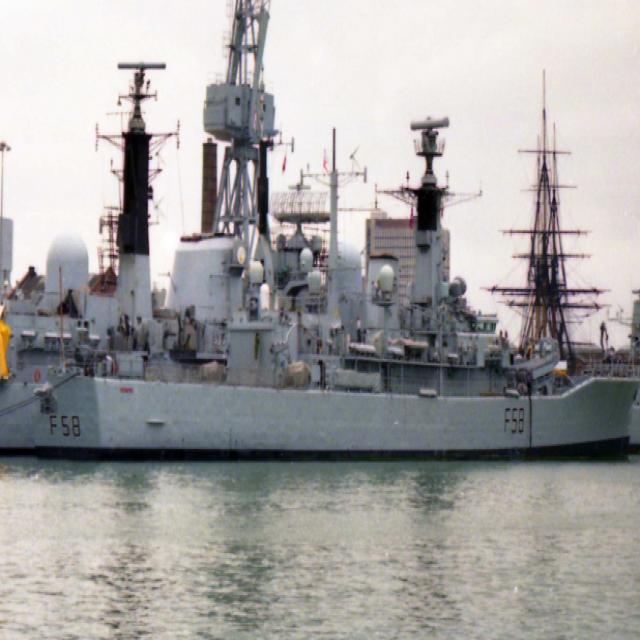Fragata: (1, 108, 640, 469)
